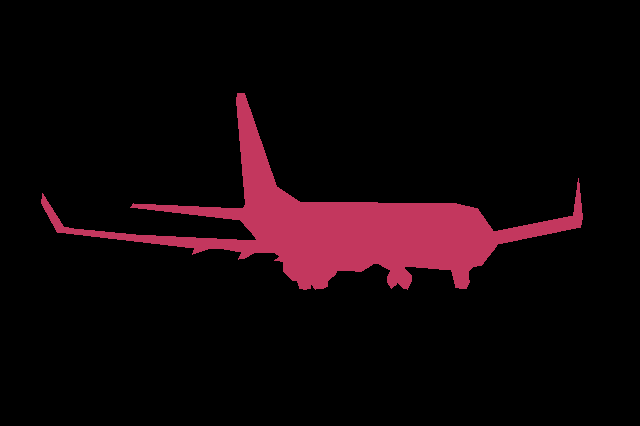Airplane: (41, 93, 583, 290)
